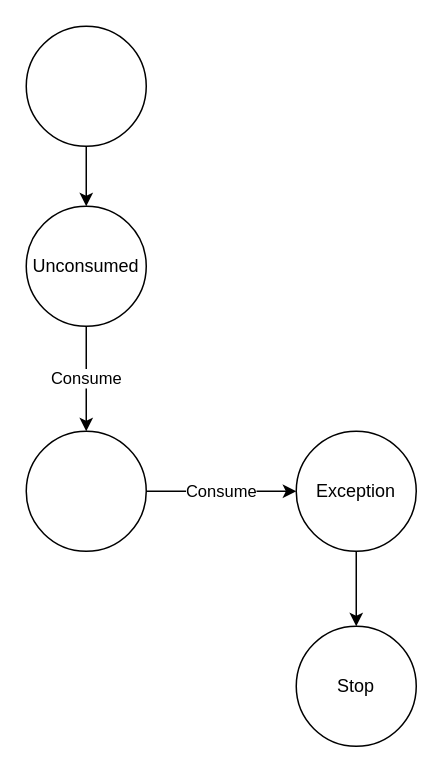
Image size: 443x773. Some labels were removed from this diagram. Here are the shapes that lost their labels. From the top down, the centre of each, then its label:
At point (85, 85): "Start".
At point (85, 490): "Consumed".
